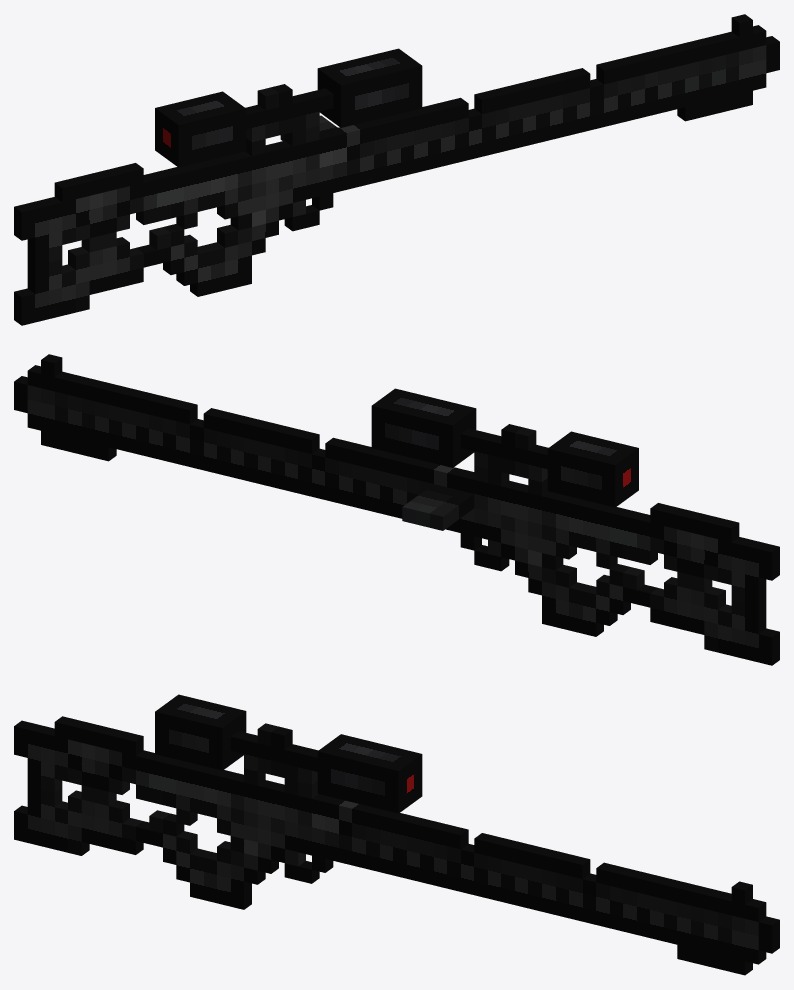
Rendered from BLIZZARD.glb.
3 renders of one model, top to bottom at view 1: azimuth 30°, elevation 25°; view 2: azimuth 150°, elevation 25°; view 3: azimuth 330°, elevation 25°, orthographic.
Visible parts, largest first — view 1: BLIZZARD; view 2: BLIZZARD; view 3: BLIZZARD.
Part boxes in pixels (x1,y1,x2,y2): BLIZZARD: [14, 14, 779, 325]; BLIZZARD: [14, 354, 779, 665]; BLIZZARD: [14, 694, 779, 975].
Bounding box in the file's own units: 1.76 × 0.4095 × 0.189.
1 material, 1 textured.
